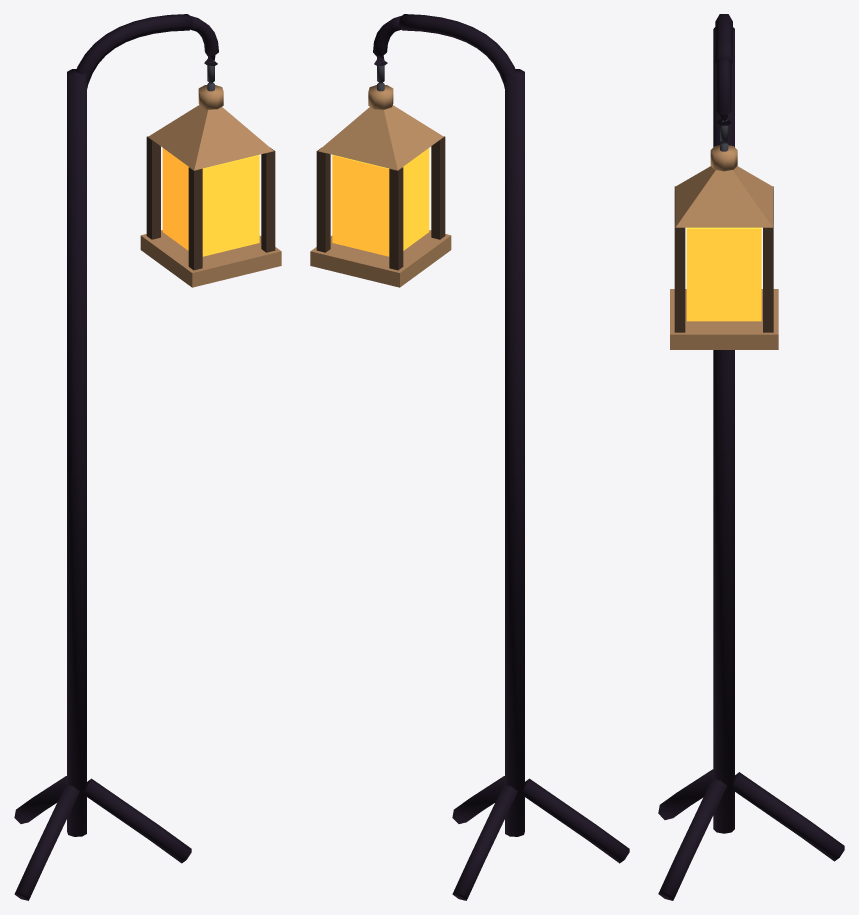
Rendered from lantern_stand.glb.
3 views of the same model, side by side, from view 1: azimuth 30°, elevation 25°; view 2: azimuth 150°, elevation 25°; view 3: azimuth 270°, elevation 25° (orthographic). The views are drawn at different scales.
Parts seen in each view (by area): view 1: lantern_stand; view 2: lantern_stand; view 3: lantern_stand.
Boxes of the visible parts, x1,y1,x2,y2 form: lantern_stand: (14,14,281,900); lantern_stand: (310,14,629,900); lantern_stand: (658,14,844,900).
Bounding box in the file's own units: 0.4773 × 1.41 × 0.2747.
